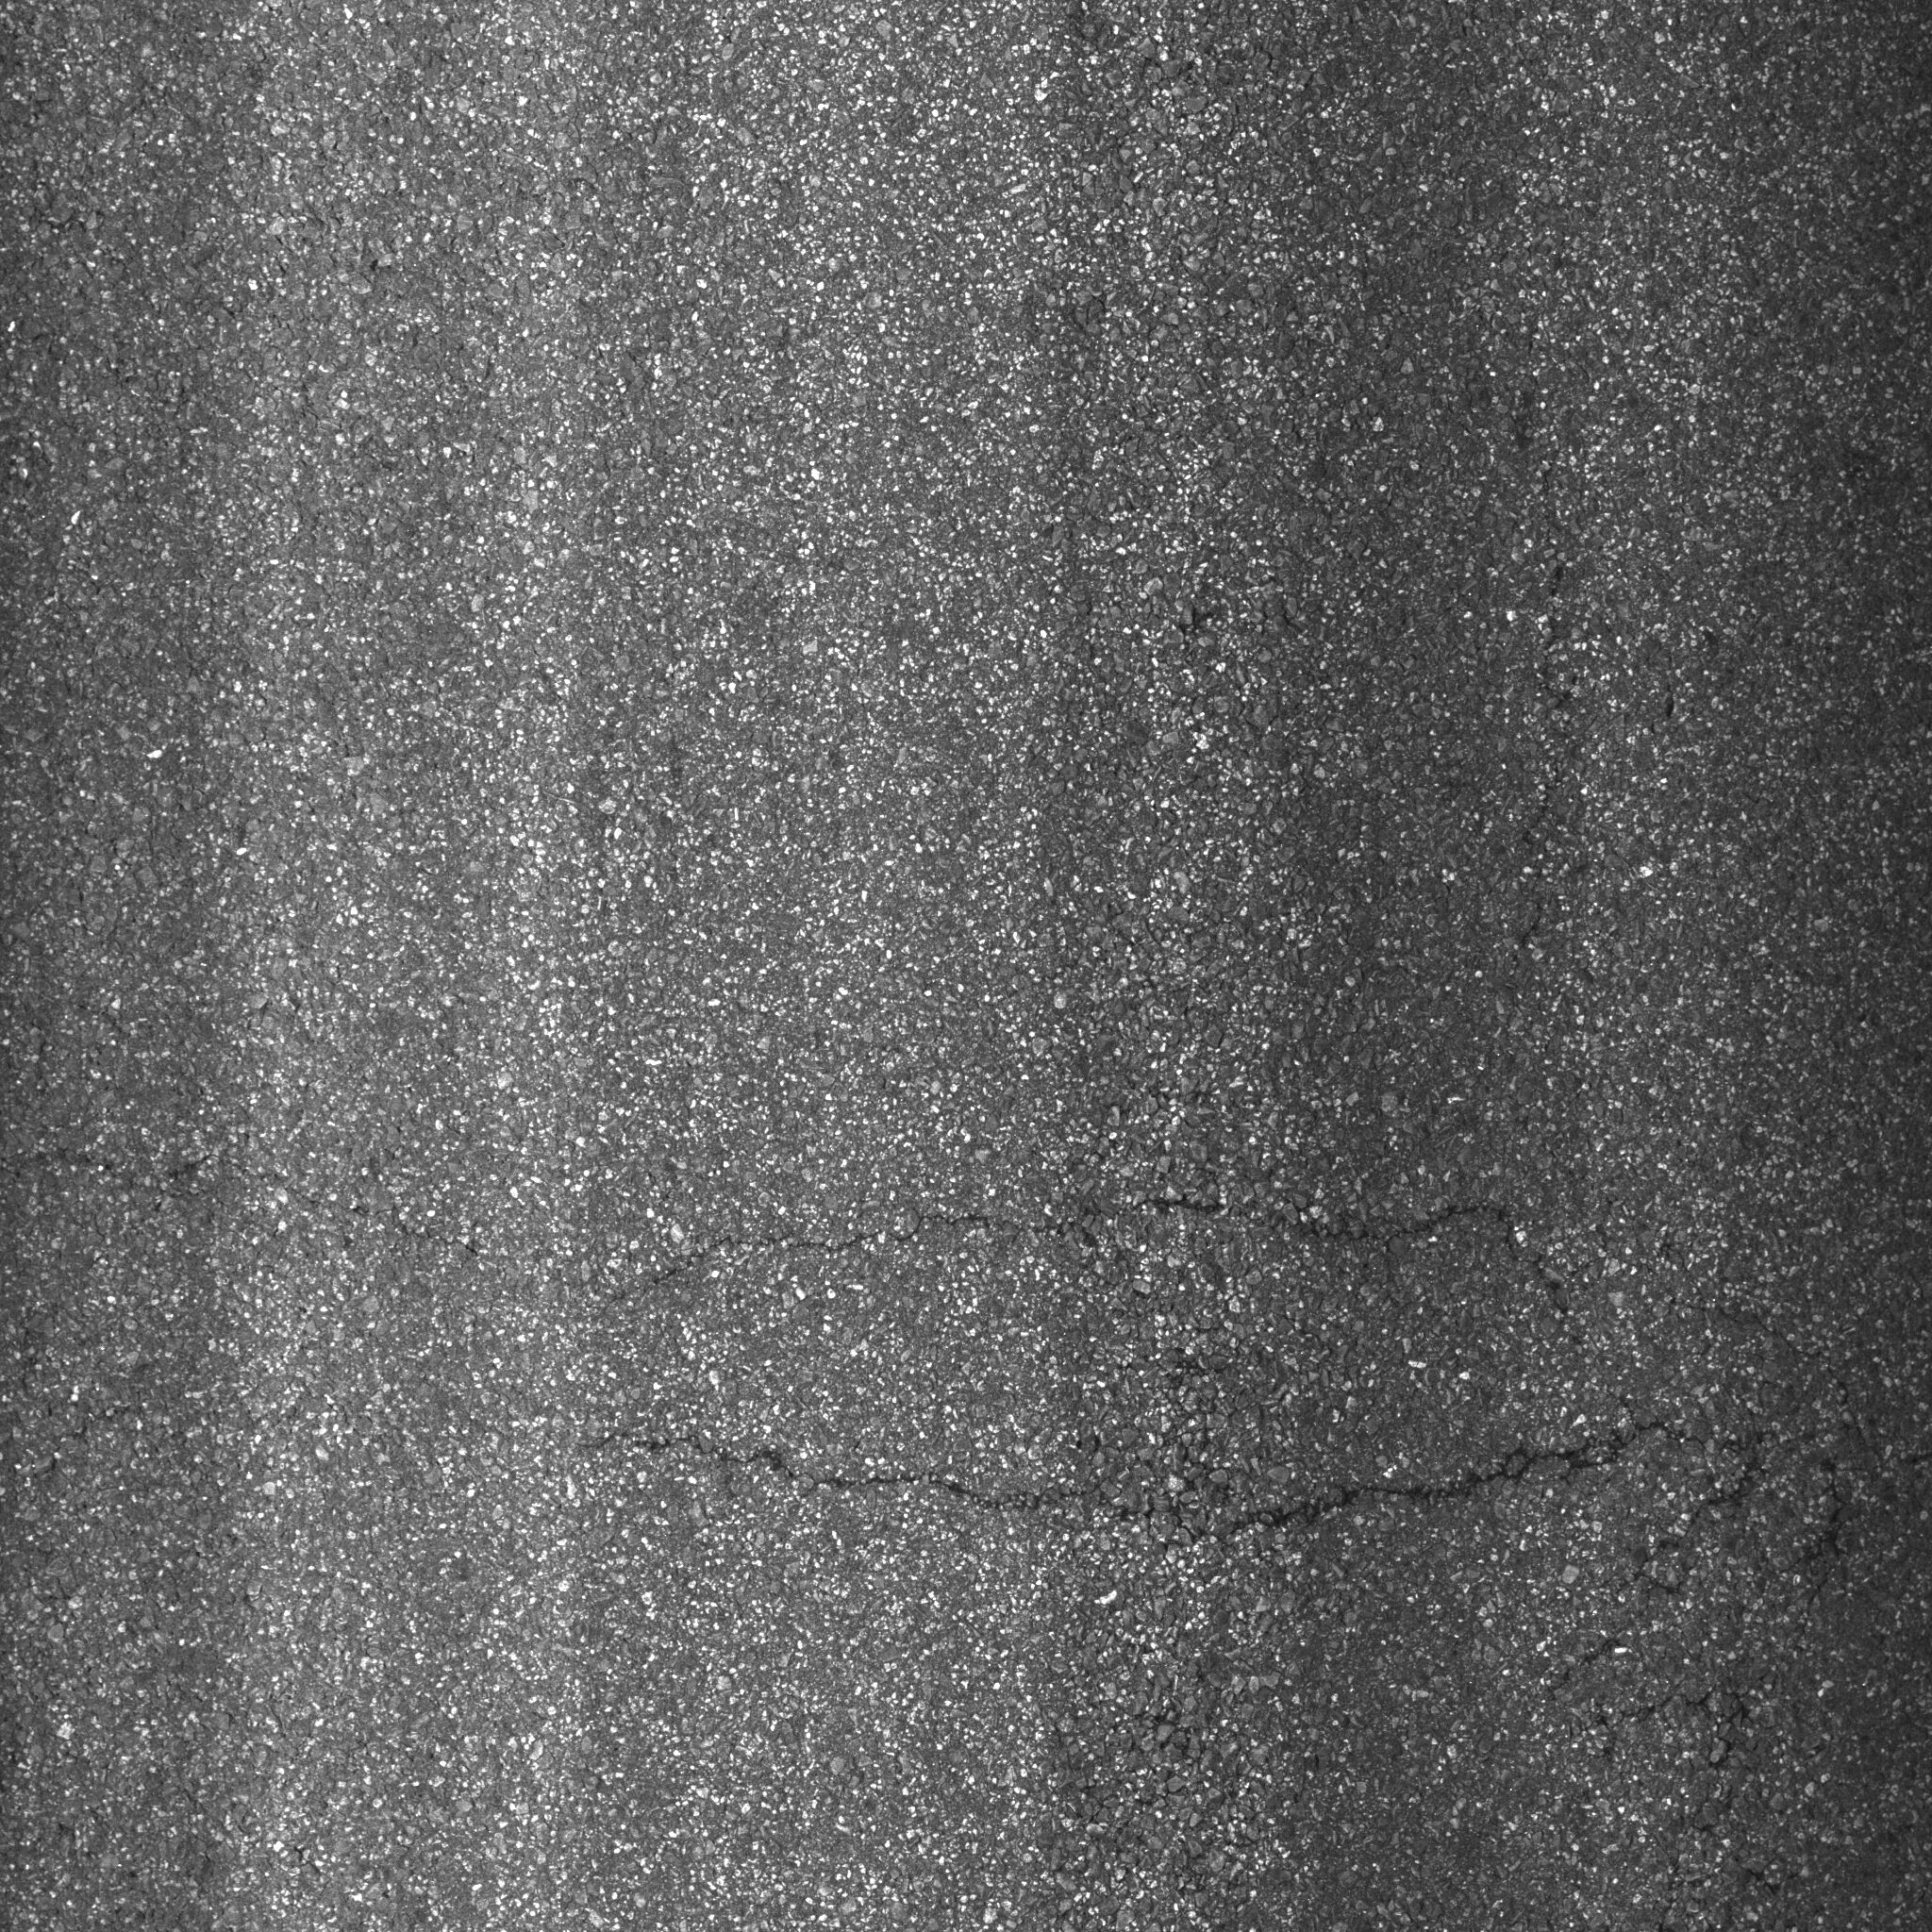transeverse: (50, 1129, 1601, 1359), (571, 1389, 1868, 1640)
